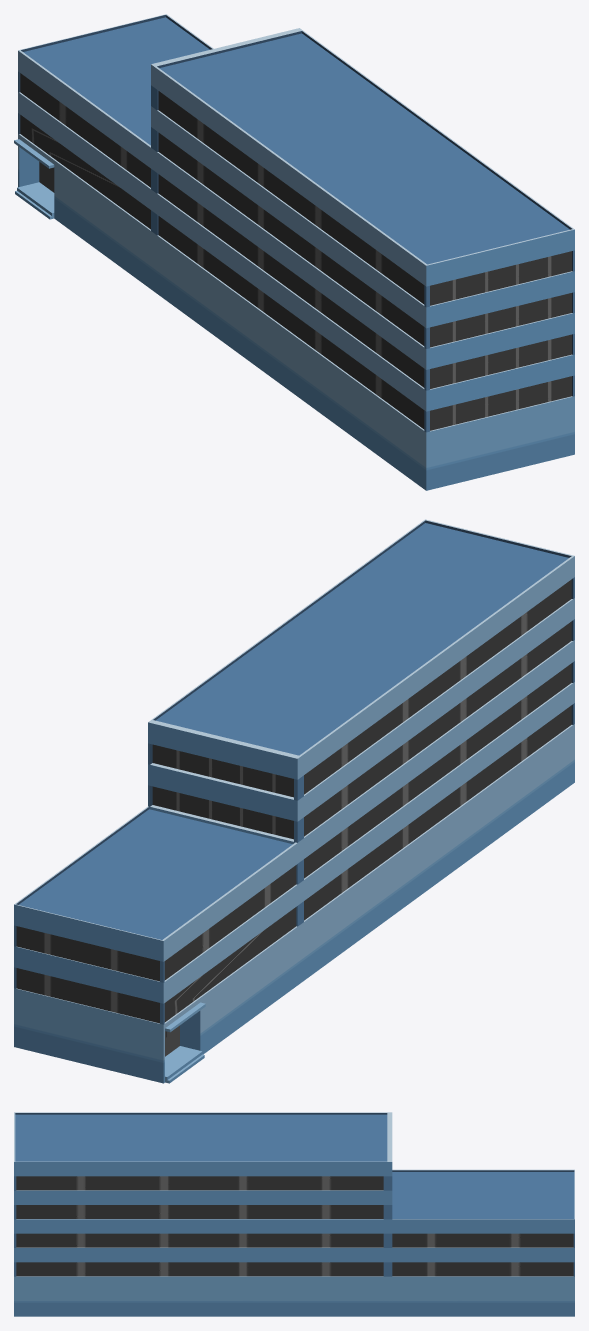
The model's file is office_stepped_mesh_large.fbx.
3 renders of one model, top to bottom at view 1: azimuth 30°, elevation 25°; view 2: azimuth 150°, elevation 25°; view 3: azimuth 270°, elevation 25°, orthographic. The views are drawn at different scales.
Parts seen in each view (by area): view 1: office_stepped_mesh_large; view 2: office_stepped_mesh_large; view 3: office_stepped_mesh_large.
Part boxes in pixels (left/top/right/bottom): office_stepped_mesh_large: left=14, top=14, right=574, bottom=490; office_stepped_mesh_large: left=14, top=519, right=574, bottom=1083; office_stepped_mesh_large: left=14, top=1112, right=574, bottom=1316.
Bounding box in the file's own units: 13.92 × 19.44 × 63.95.
Materials: 1 (1 with a texture image).
